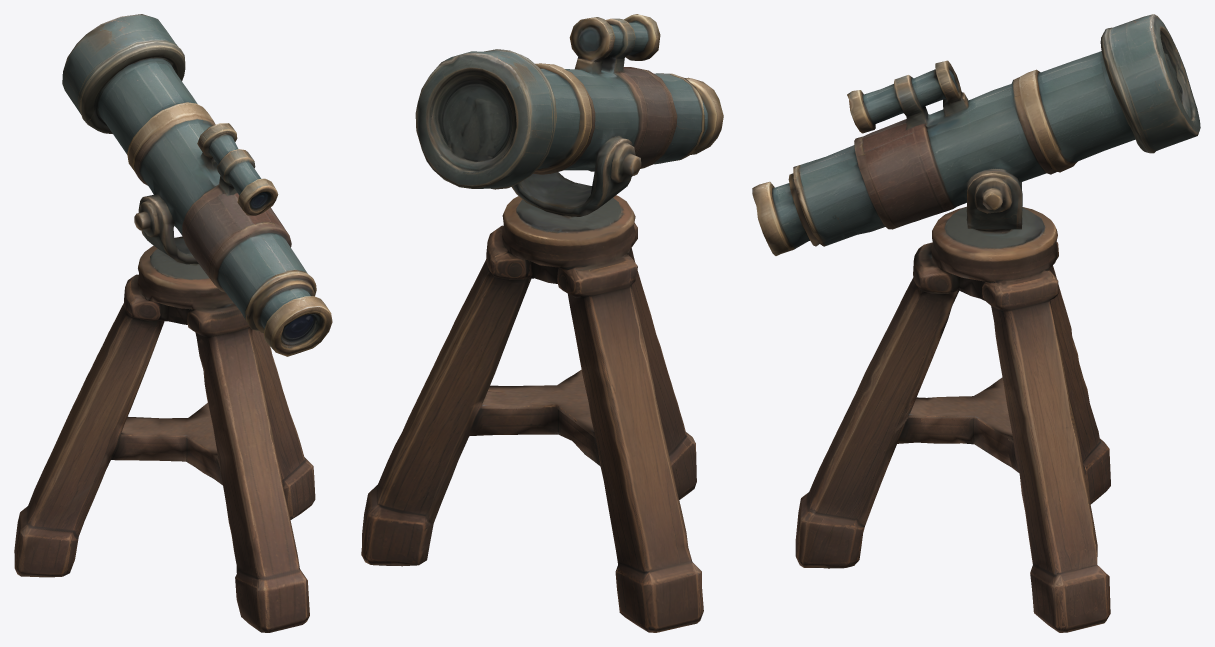
File: Prop_AstroTelescope.fbx
3 renders of one model, left to right at view 1: azimuth 30°, elevation 25°; view 2: azimuth 150°, elevation 25°; view 3: azimuth 270°, elevation 25°, orthographic. The views are drawn at different scales.
Parts seen in each view (by area): view 1: texture_mapping; view 2: texture_mapping; view 3: texture_mapping.
Part boxes in pixels (<box>): texture_mapping: <box>14,14,332,632</box>; texture_mapping: <box>361,14,723,632</box>; texture_mapping: <box>752,14,1200,632</box>.
Size of the model in its own units: 0.626 by 0.7582 by 1.
1 material, 1 textured.
